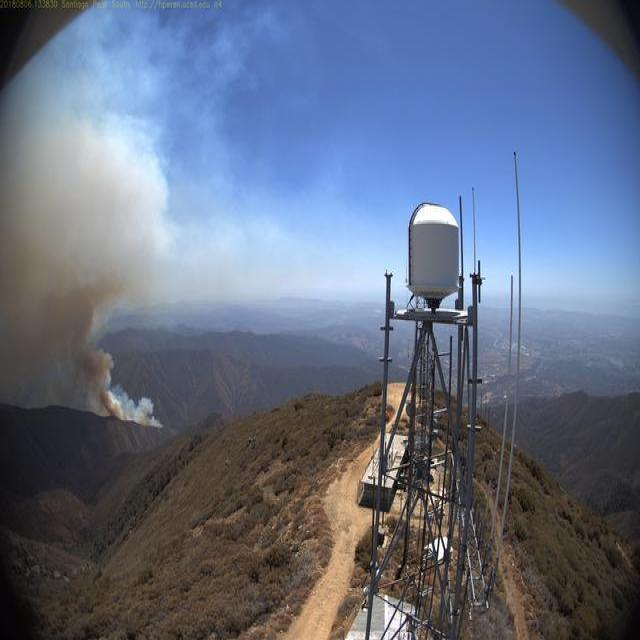smoke: (1, 100, 169, 435)
